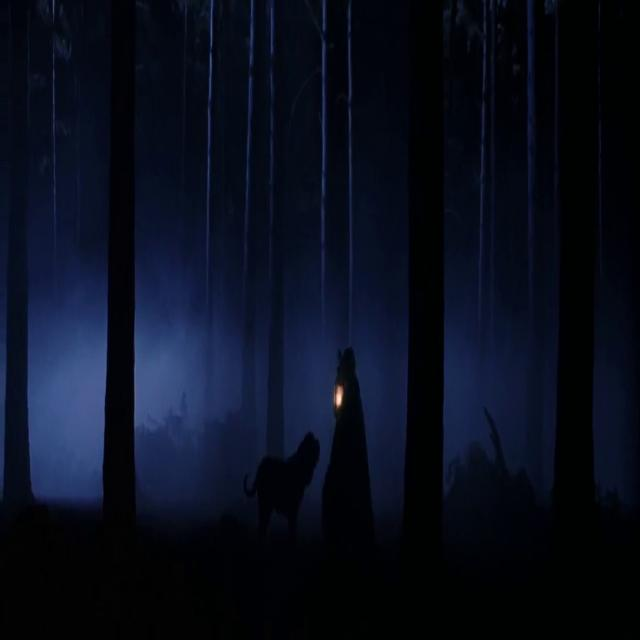People: (323, 296, 375, 574)
dog: (254, 411, 315, 555)
